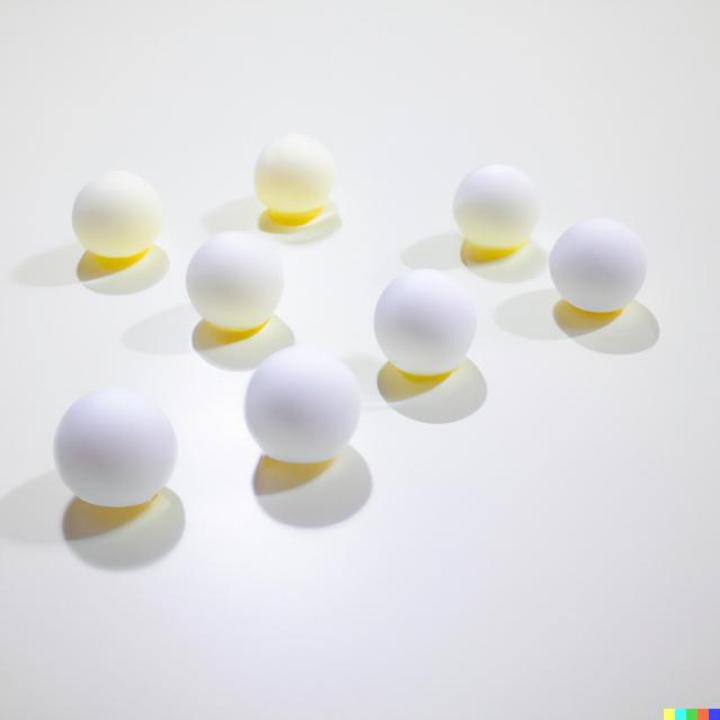white: (55, 387, 177, 509), (244, 344, 362, 465), (376, 266, 476, 378), (187, 229, 286, 332), (548, 217, 648, 316), (72, 169, 162, 259), (452, 162, 540, 252), (252, 134, 336, 218)
